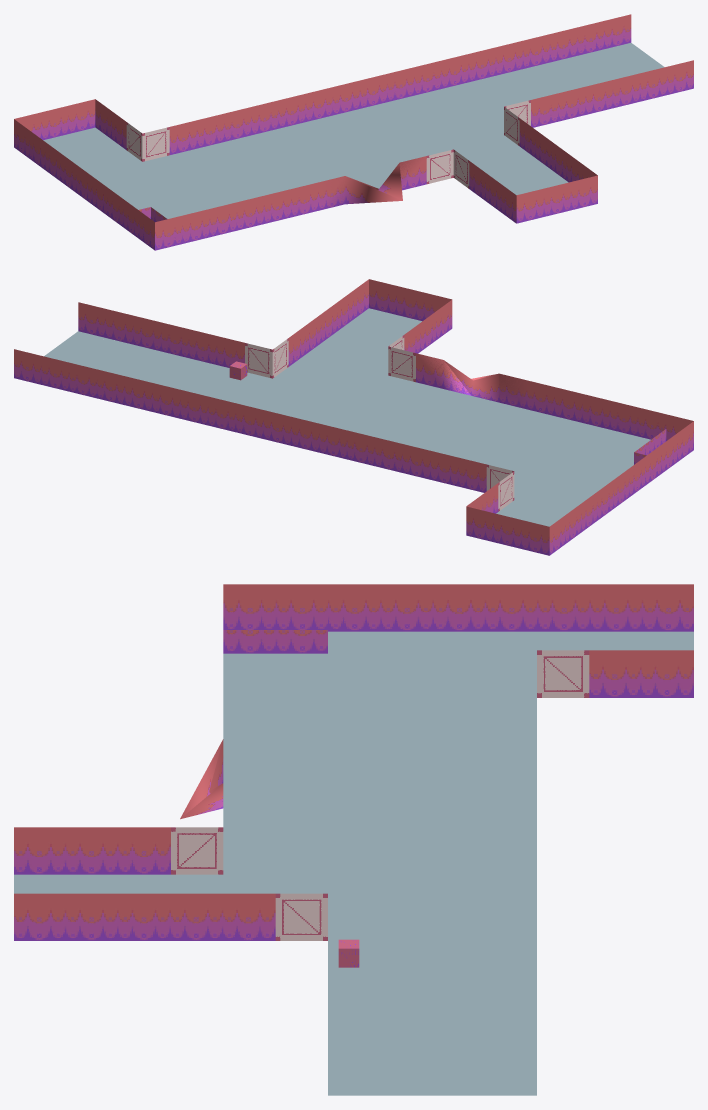
Rendered from SO REAL.obj.
3 renders of one model, top to bottom at view 1: azimuth 30°, elevation 25°; view 2: azimuth 150°, elevation 25°; view 3: azimuth 270°, elevation 25°, orthographic. The views are drawn at different scales.
Parts seen in each view (by area): view 1: Scene; view 2: Scene; view 3: Scene.
Boxes of the visible parts, x1,y1,x2,y2 form: Scene: [14, 14, 693, 250]; Scene: [14, 279, 693, 555]; Scene: [14, 584, 693, 1095].
Bounding box in the file's own units: 21 × 1 × 13.
Materials: 1 (1 with a texture image).
